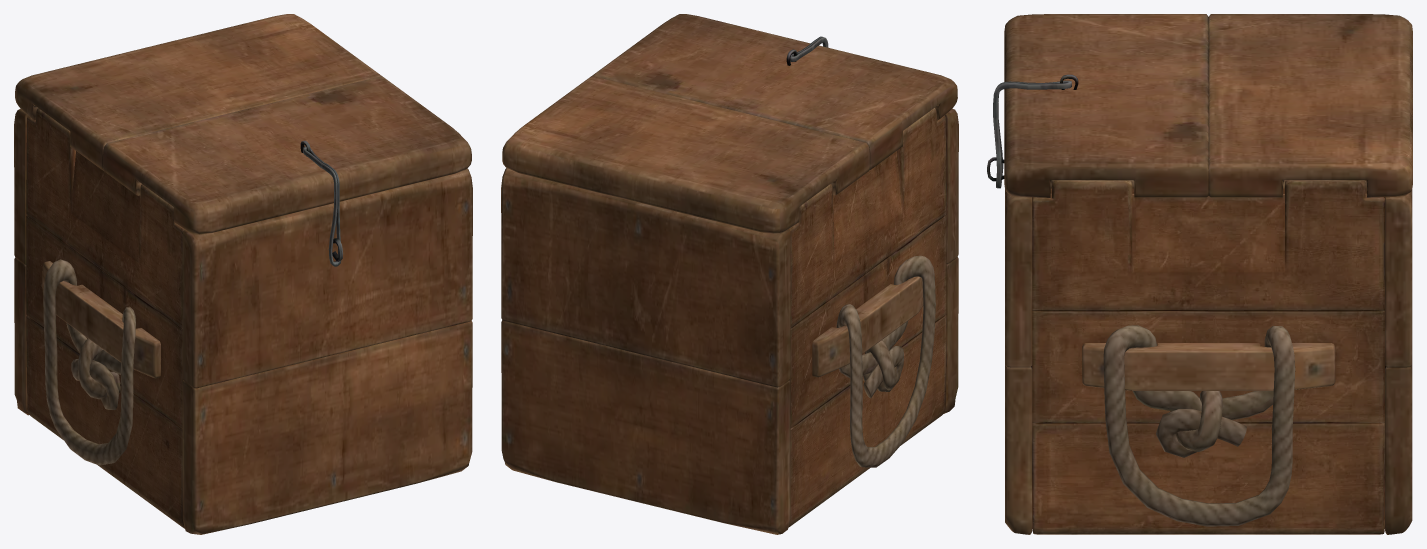
File: wooden_crate_01.glb
3 renders of one model, left to right at view 1: azimuth 30°, elevation 25°; view 2: azimuth 150°, elevation 25°; view 3: azimuth 270°, elevation 25°, orthographic. The views are drawn at different scales.
Parts seen in each view (by area): view 1: wooden_crate_01, wooden_crate_01_lid, wooden_crate_01_latch; view 2: wooden_crate_01, wooden_crate_01_lid; view 3: wooden_crate_01, wooden_crate_01_lid, wooden_crate_01_latch.
Part boxes in pixels (x1,y1,x2,y2): wooden_crate_01: (14, 108, 472, 534); wooden_crate_01_lid: (15, 14, 471, 234); wooden_crate_01_latch: (303, 146, 341, 266); wooden_crate_01: (501, 108, 958, 534); wooden_crate_01_lid: (502, 14, 957, 234); wooden_crate_01: (987, 157, 1412, 534); wooden_crate_01_lid: (1004, 14, 1412, 197); wooden_crate_01_latch: (993, 80, 1071, 188).
Bounding box in the file's own units: 0.6 × 0.6 × 0.6001.
1 material, 1 textured.
